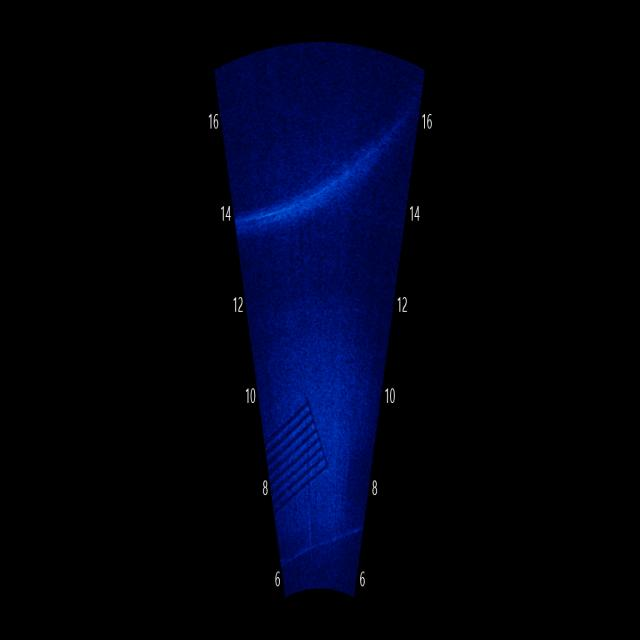square: (261, 391, 340, 509)
